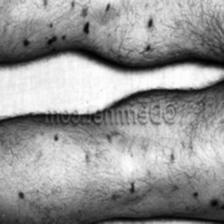Non-Cancerous Skin Condition: (6, 0, 118, 50), (167, 190, 224, 222), (134, 11, 156, 55)
